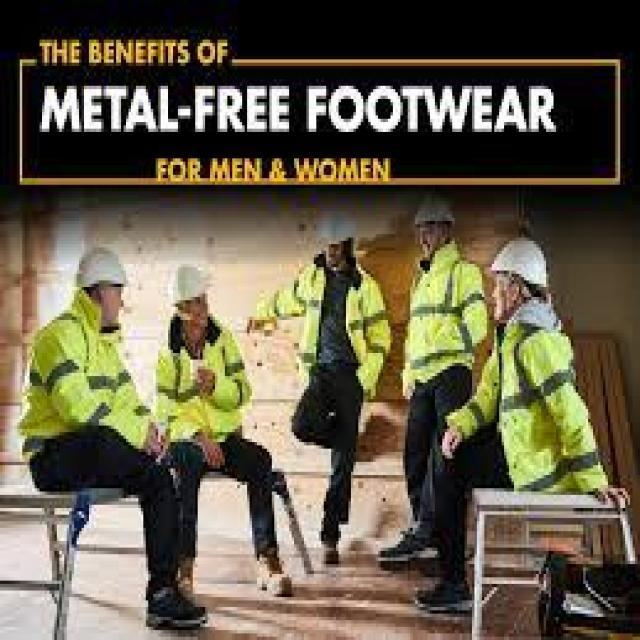shoes: (145, 585, 214, 636), (375, 522, 439, 566), (404, 579, 473, 616), (252, 545, 290, 604), (316, 518, 346, 576)
